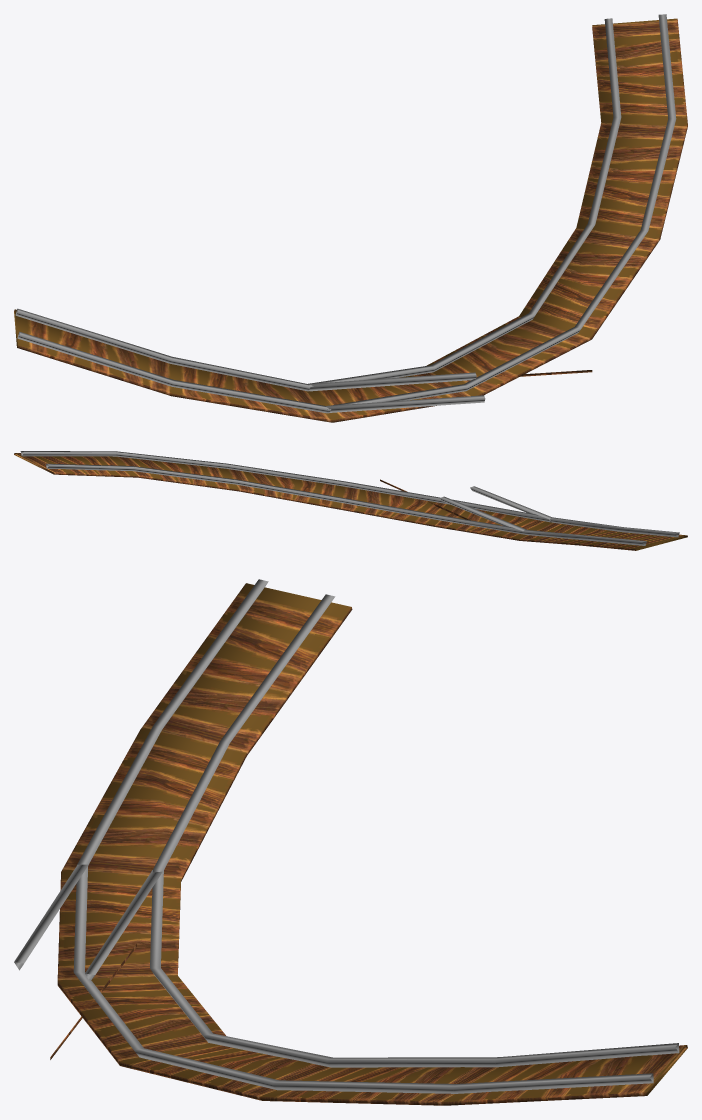
Rendered from SWORDLIGHT20_MAIN1RAILS1W.fbx.
3 views of the same model, one above another, from view 1: azimuth 30°, elevation 25°; view 2: azimuth 150°, elevation 25°; view 3: azimuth 270°, elevation 25° (orthographic). The views are drawn at different scales.
Parts seen in each view (by area): view 1: SWORDLIGHT20_MAIN1RAILS1W; view 2: SWORDLIGHT20_MAIN1RAILS1W; view 3: SWORDLIGHT20_MAIN1RAILS1W.
Boxes of the visible parts, bbox=[...] form: SWORDLIGHT20_MAIN1RAILS1W: bbox=[14, 14, 687, 422]; SWORDLIGHT20_MAIN1RAILS1W: bbox=[14, 451, 687, 550]; SWORDLIGHT20_MAIN1RAILS1W: bbox=[14, 579, 687, 1105].
Size of the model in its own units: 174605 by 27103 by 91192.
2 materials, 2 textured.
